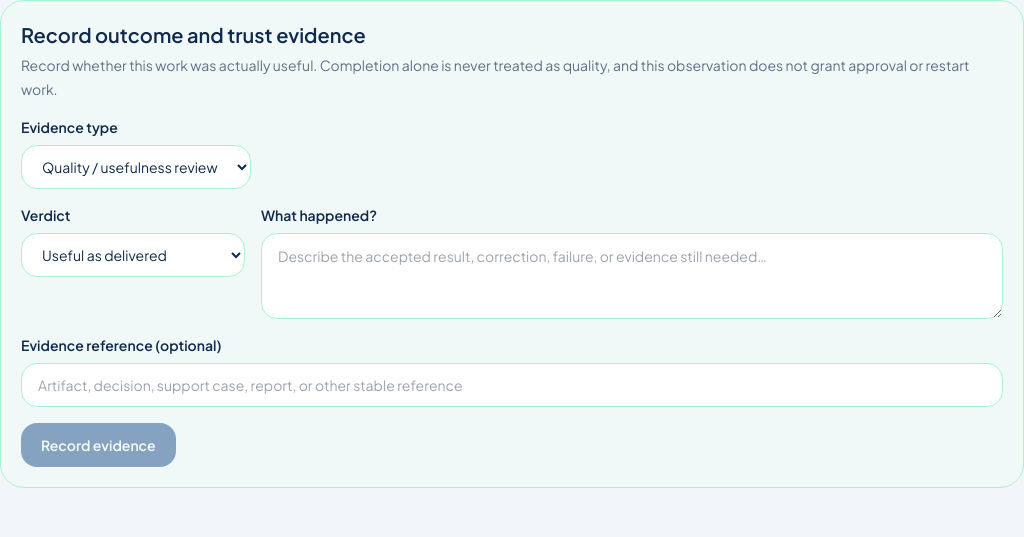
Test: AgentOutcomeObservationForm › records explicit evidence without claiming execution or approval
Select "Useful with corrections" in the dropdown labelled "Verdict" at (133,255), box 21,233 -> 245,277
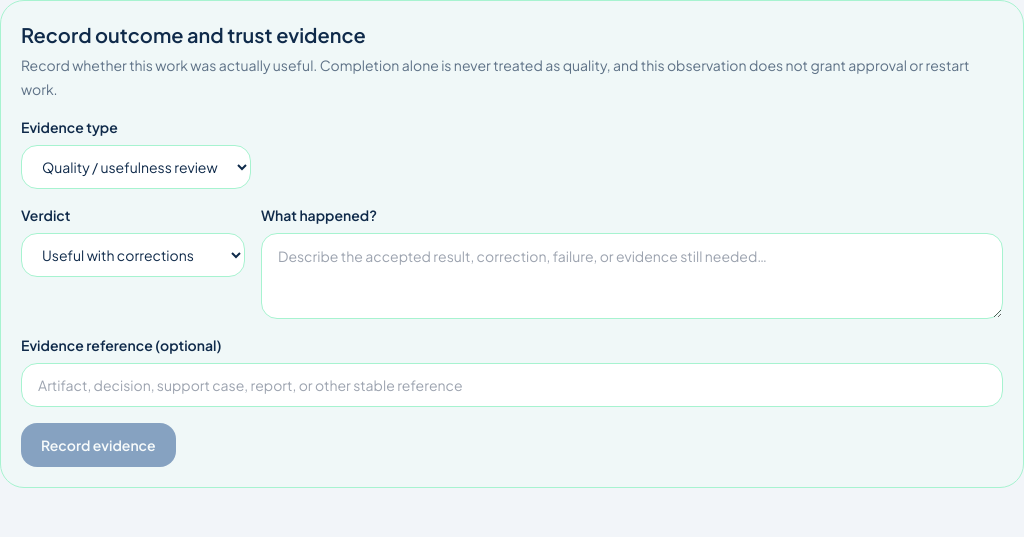
Replace the text in the text box labelled "What happened?" with " Useful after correcting the estimate. " at (632,276), box 261,233 -> 1003,319
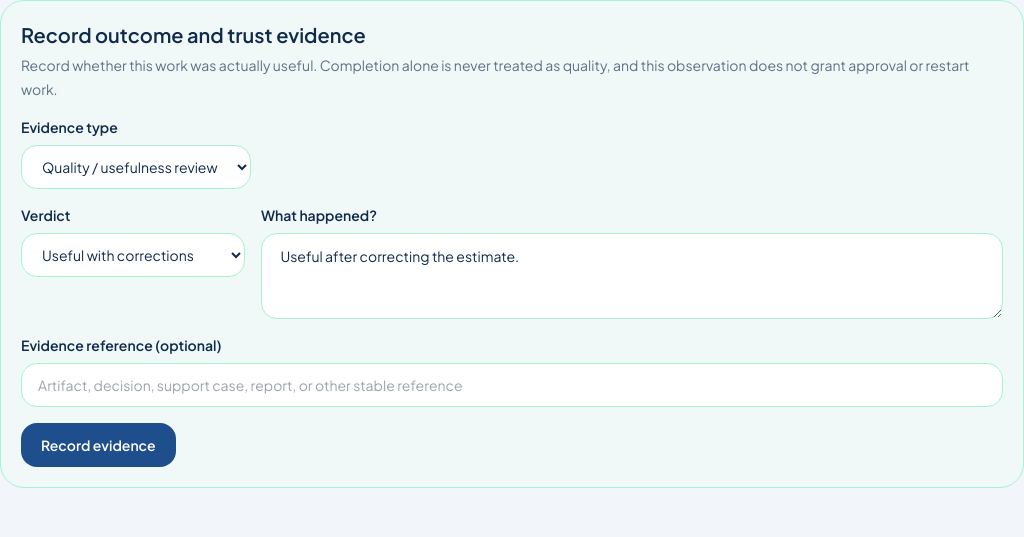
Replace the text in the field labelled "Evidence reference (optional)" with " decision-42 " at (512,385), box 21,363 -> 1003,407
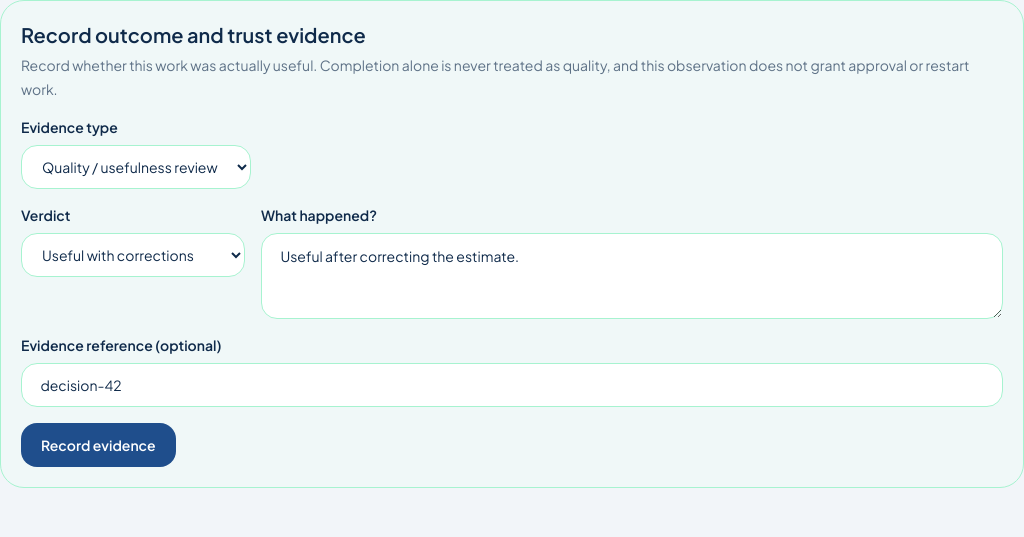
Click the button "Record evidence" at (98,445), box 21,423 -> 176,467
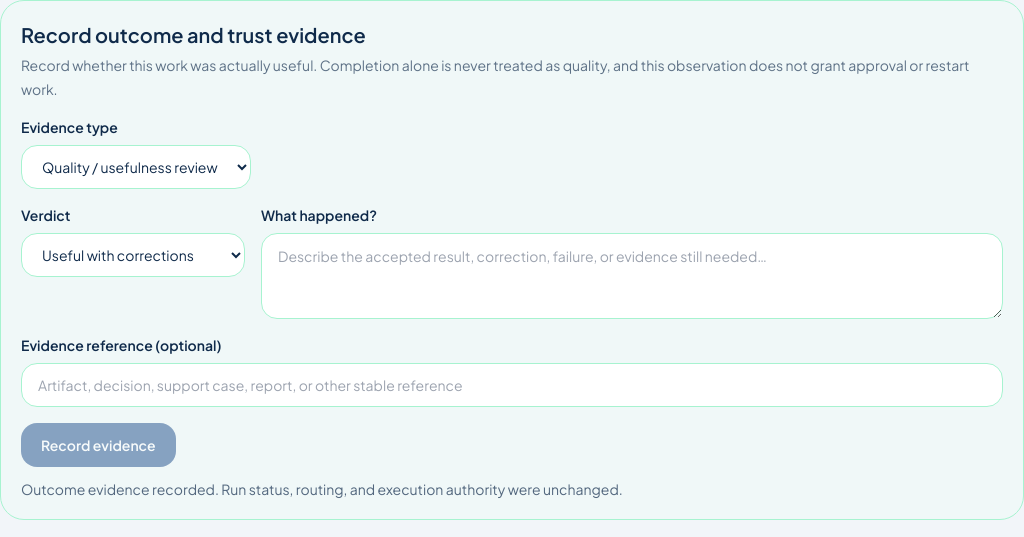
Check: the text "status, routing, and execution authority were unchanged" is shown, box 21,480 -> 623,498
